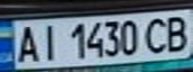0: (118, 17, 142, 56)
1: (63, 19, 87, 60)
3: (103, 18, 124, 57)
4: (84, 18, 106, 58)
A: (12, 22, 42, 63)
B: (160, 12, 193, 54)
C: (142, 15, 172, 55)
I: (36, 21, 63, 62)
